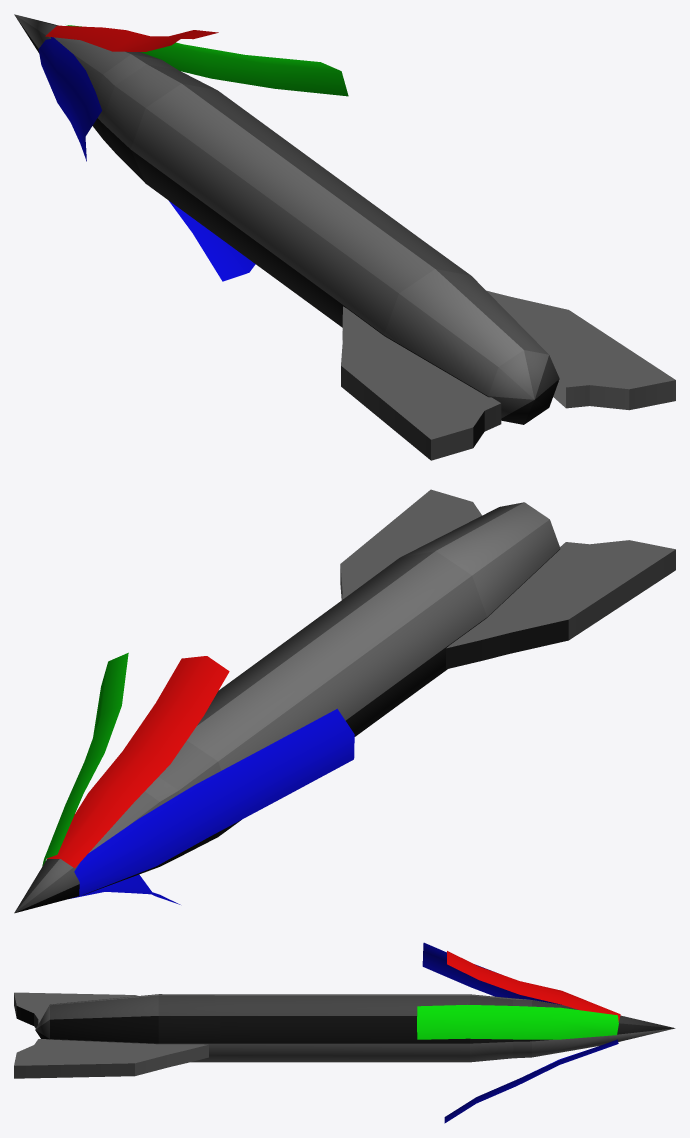
Rendered from rocket_Wind_NoAttach.FBX.
The picture shows the model from 3 angles, top to bottom: view 1: azimuth 30°, elevation 25°; view 2: azimuth 150°, elevation 25°; view 3: azimuth 270°, elevation 25°; orthographic projection. The views are drawn at different scales.
Parts seen in each view (by area): view 1: Rocket, Object; view 2: Rocket, Object; view 3: Rocket, Object.
Part boxes in pixels (x1,y1,x2,y2): Rocket: (14,14,675,460); Object: (38,25,348,281); Rocket: (14,489,675,913); Object: (42,652,354,904); Rocket: (14,992,675,1078); Object: (417,942,620,1123).
Size of the model in its own units: 43.48 by 41.36 by 157.
